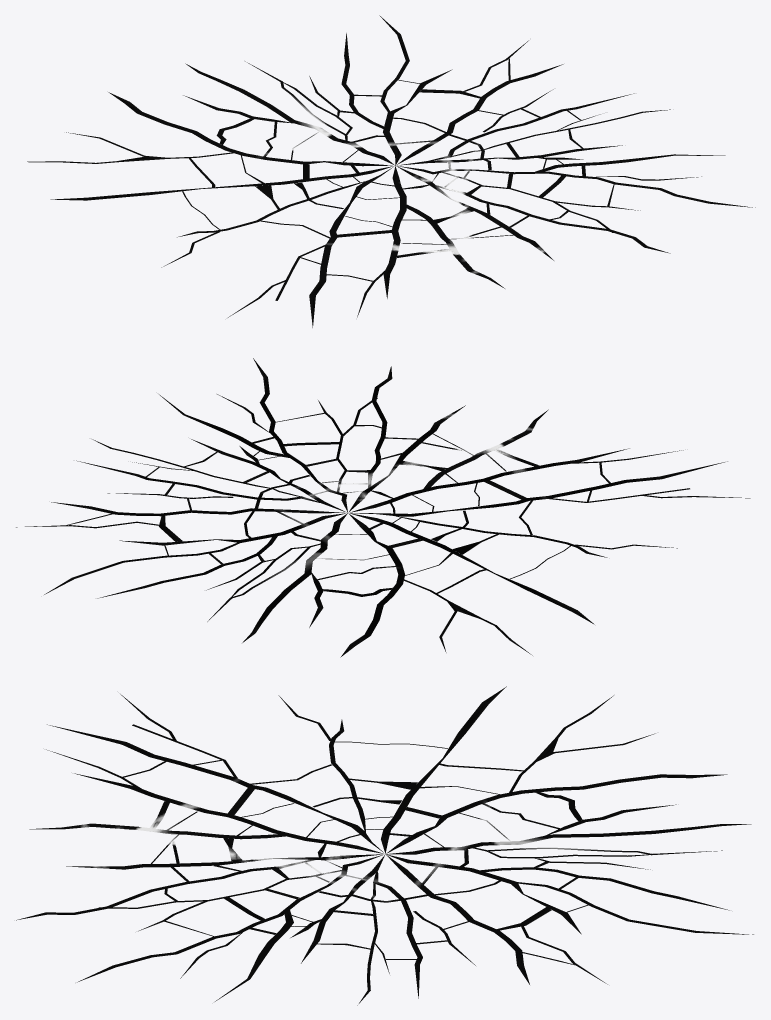
The model's file is 0287_dilie01.glb.
3 views of the same model, one above another, from view 1: azimuth 30°, elevation 25°; view 2: azimuth 150°, elevation 25°; view 3: azimuth 270°, elevation 25° (orthographic). The views are drawn at different scales.
Size of the model in its own units: 2.2 by 2.14e-06 by 2.16.
Materials: 1 (1 with a texture image).
